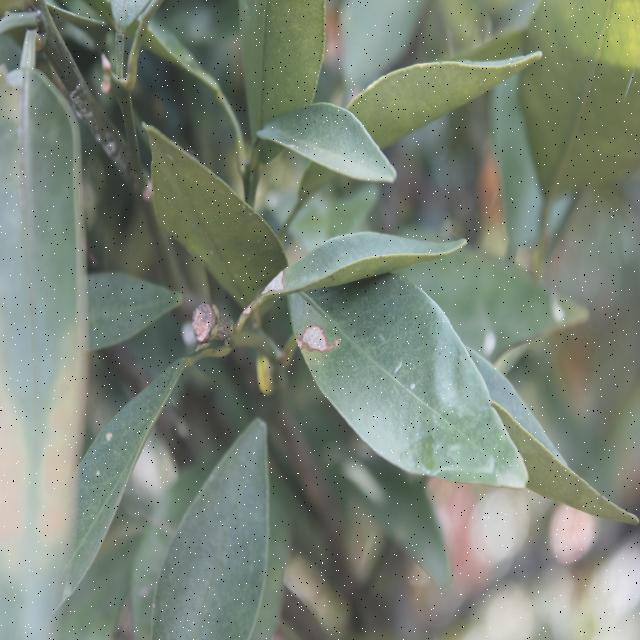blackspot: (338, 304, 487, 470), (296, 112, 342, 164), (322, 264, 351, 282)
